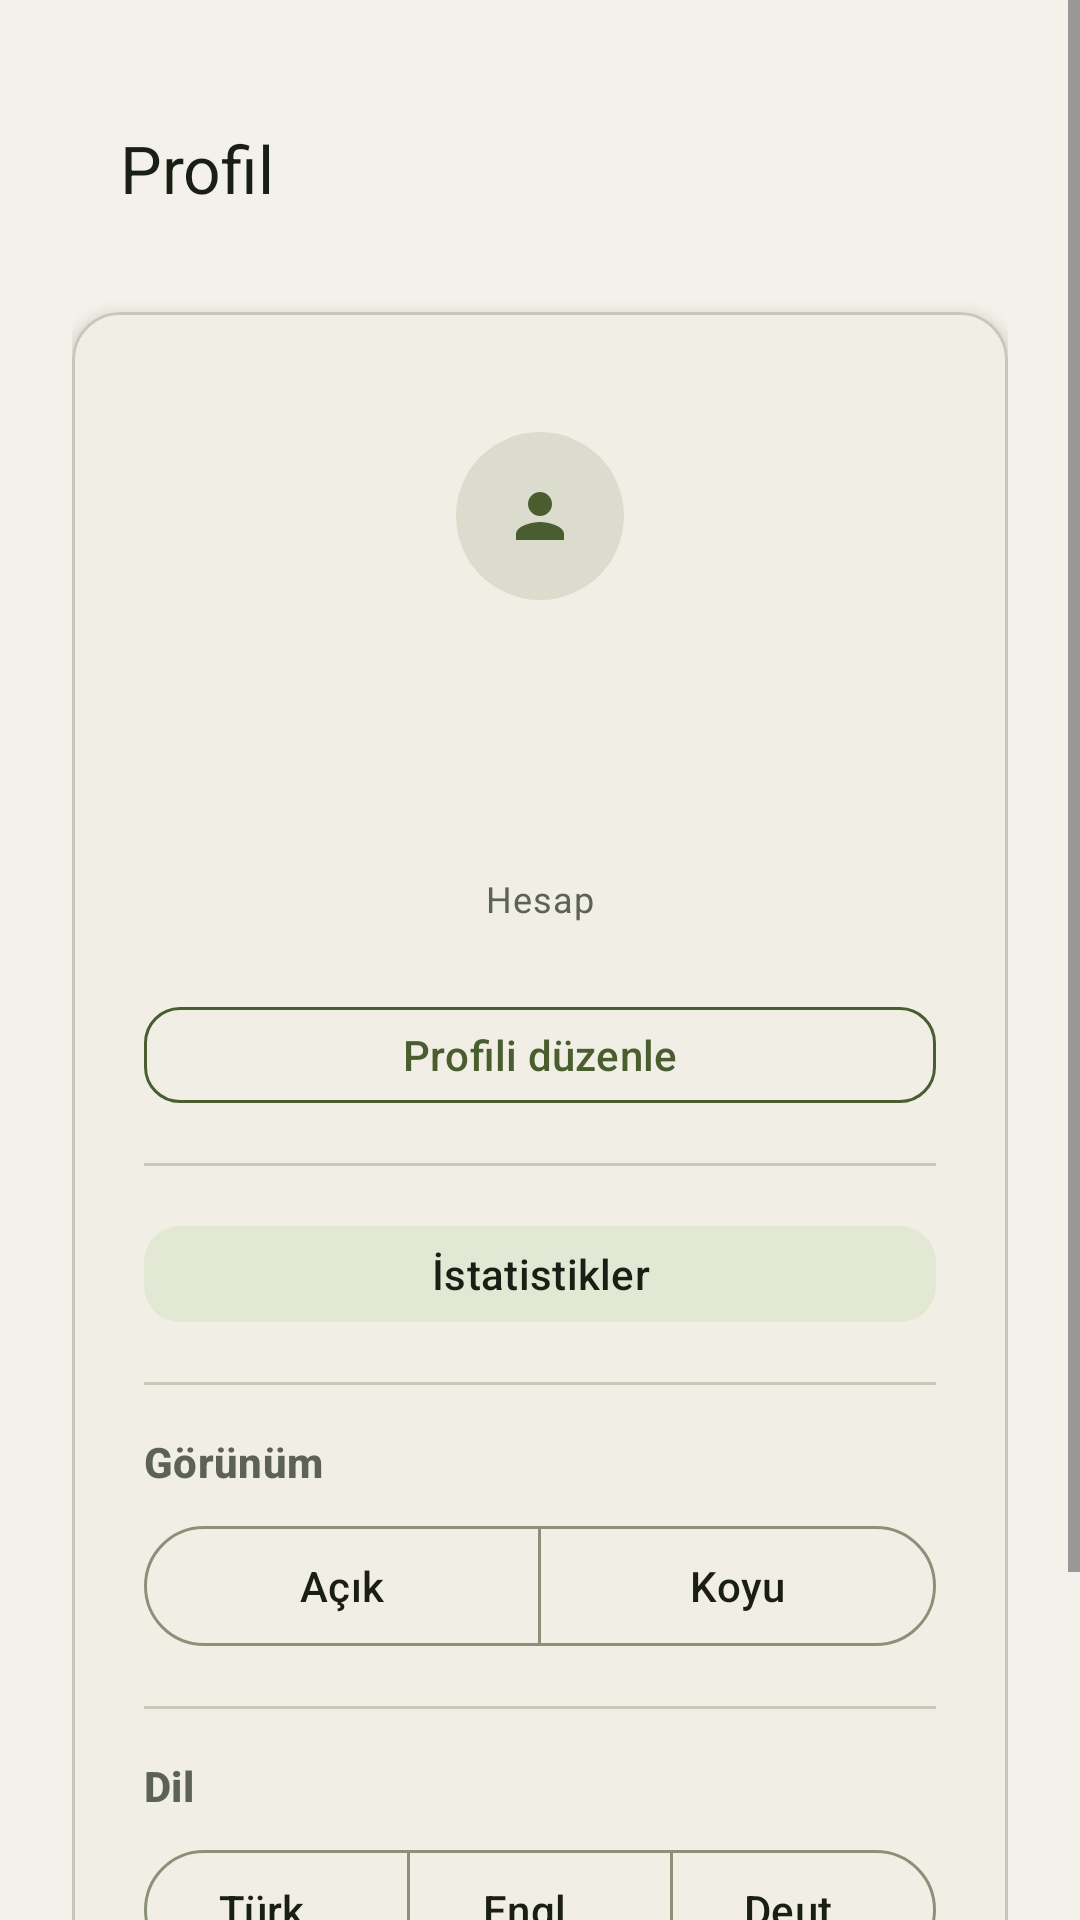

Icon bounding boxes for this 1080w x 1920h phone screenshot, format (x1, y1, x2, y2):
Profil: (516, 492, 564, 540)
